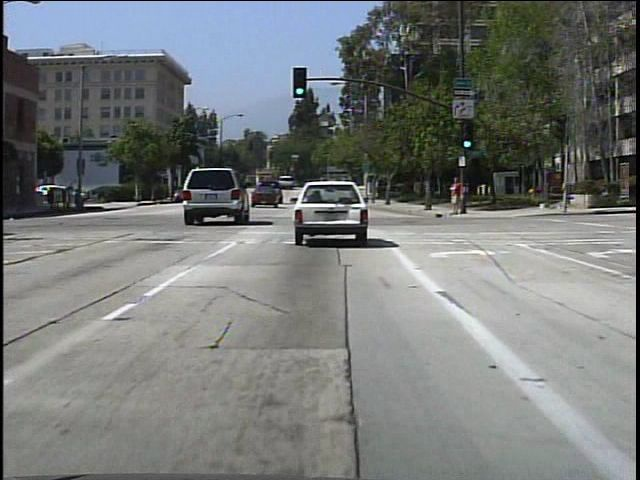person: (445, 171, 466, 217), (67, 181, 78, 213), (80, 182, 81, 209)
